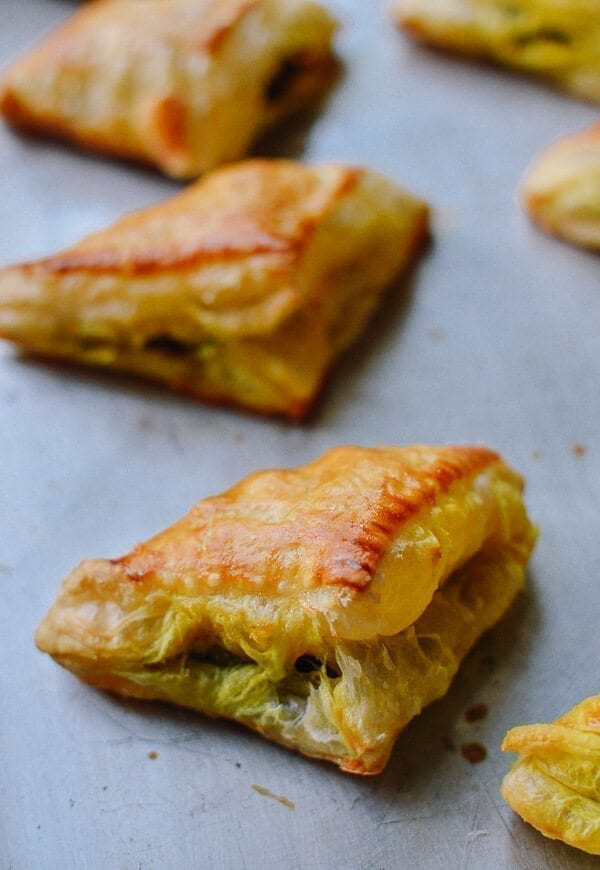Curry Puff: (36, 443, 551, 763), (0, 164, 458, 380), (8, 10, 345, 170)
